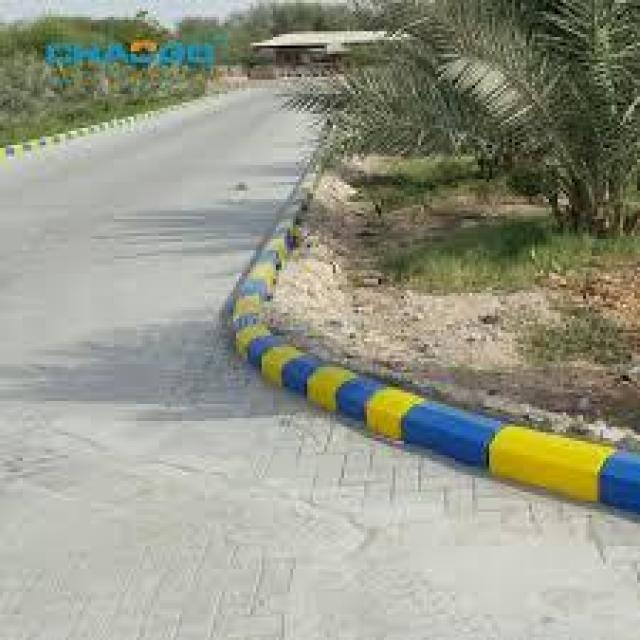curb: (420, 397, 634, 516), (259, 329, 402, 452), (229, 244, 294, 366)
